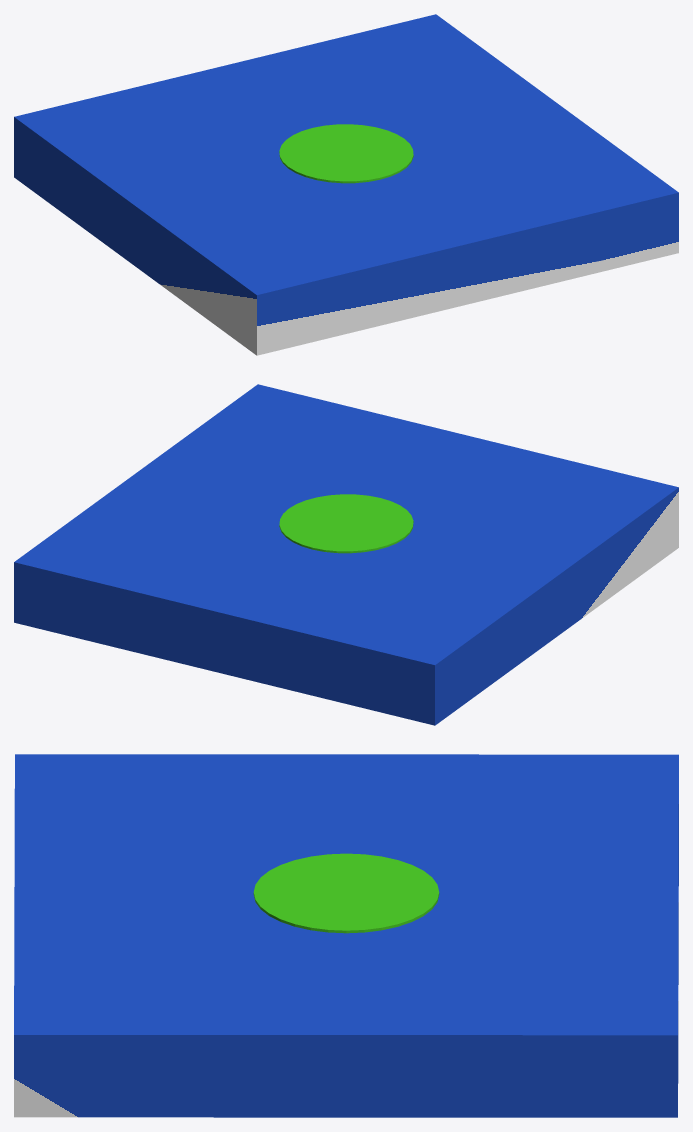
Rendered from platform.dae.
The picture shows the model from 3 angles, top to bottom: view 1: azimuth 30°, elevation 25°; view 2: azimuth 150°, elevation 25°; view 3: azimuth 270°, elevation 25°; orthographic projection. The views are drawn at different scales.
Visible parts, largest first — view 1: Platform.001; view 2: Platform.001; view 3: Platform.001.
Boxes of the visible parts, x1,y1,x2,y2 form: Platform.001: (14,14,678,355); Platform.001: (14,384,678,725); Platform.001: (14,754,678,1117).
Bounding box in the file's own units: 0.7081 × 0.7081 × 0.1.
1 material, 1 textured.
